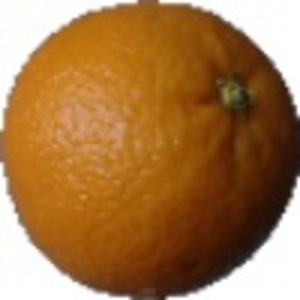laranja: (2, 3, 297, 297)
